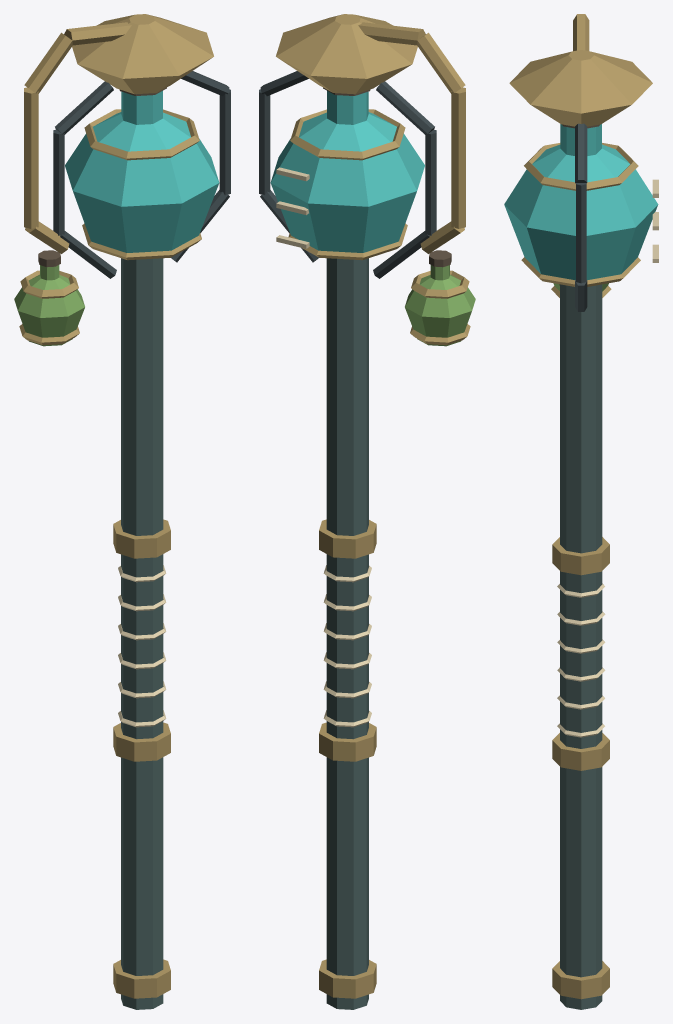
Rendered from Profession_AlembicStaff.fbx.
3 renders of one model, left to right at view 1: azimuth 30°, elevation 25°; view 2: azimuth 150°, elevation 25°; view 3: azimuth 270°, elevation 25°, orthographic. The views are drawn at different scales.
Parts seen in each view (by area): view 1: Profession_AlembicStaff; view 2: Profession_AlembicStaff; view 3: Profession_AlembicStaff.
Boxes of the visible parts, x1,y1,x2,y2 form: Profession_AlembicStaff: (14, 14, 230, 1009); Profession_AlembicStaff: (259, 14, 475, 1009); Profession_AlembicStaff: (504, 14, 658, 1009).
Size of the model in its own units: 0.461 by 2.04 by 0.301.
